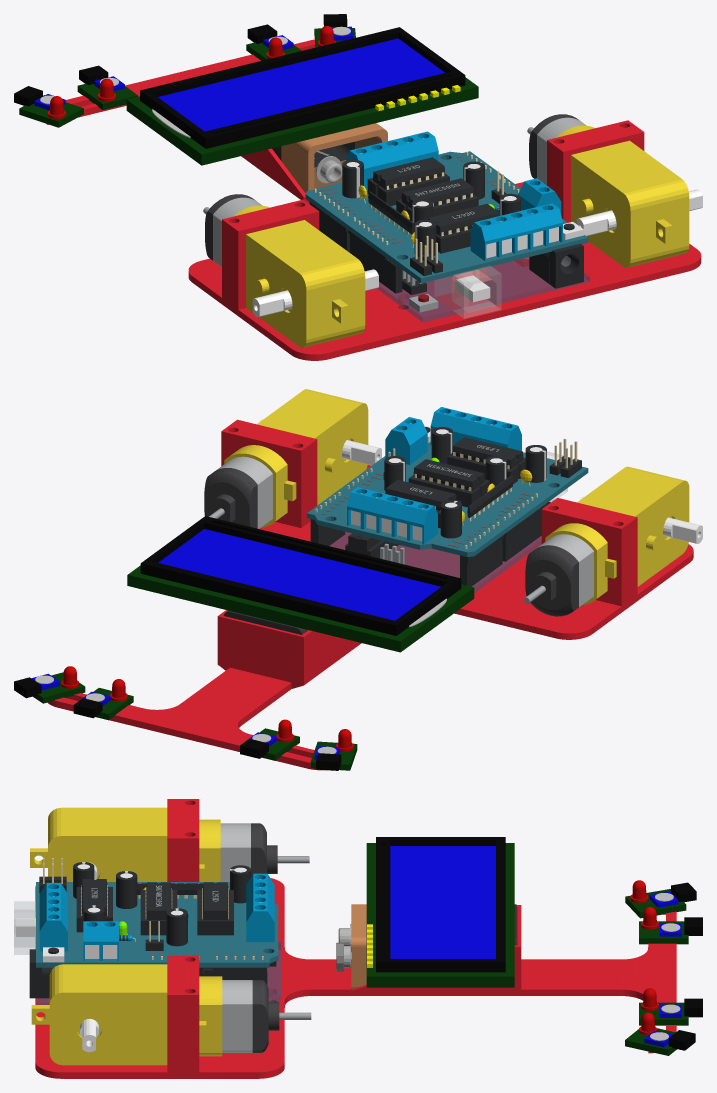
Rendered from car.obj.
3 views of the same model, one above another, from view 1: azimuth 30°, elevation 25°; view 2: azimuth 150°, elevation 25°; view 3: azimuth 270°, elevation 25° (orthographic).
Visible parts, largest first — view 1: Cube, obj_6, obj_7, obj_3, obj_1, obj_0, obj_5, obj_4, obj_2, Cube.005, Cube.004, Cube.003 (+1 smaller); view 2: Cube, obj_6, obj_7, obj_3, obj_1, obj_0, obj_4, obj_2, Cube.002, Cube.004, Cube.003, Cube.005; view 3: Cube, obj_6, obj_1, obj_7, obj_3, obj_2, obj_0, obj_4, obj_5, Cube.005, Cube.004, Cube.002 (+1 smaller).
Boxes of the visible parts, bbox=[...] form: Cube: bbox=[126, 27, 478, 165]; obj_6: bbox=[305, 131, 588, 283]; obj_7: bbox=[47, 39, 701, 360]; obj_3: bbox=[203, 194, 378, 347]; obj_1: bbox=[527, 114, 702, 267]; obj_0: bbox=[319, 212, 589, 322]; obj_5: bbox=[272, 123, 387, 193]; obj_4: bbox=[222, 199, 319, 309]; obj_2: bbox=[547, 120, 644, 222]; Cube.005: bbox=[14, 86, 83, 127]; Cube.004: bbox=[77, 65, 137, 109]; Cube.003: bbox=[246, 24, 301, 60]; Cube: bbox=[127, 516, 474, 652]; obj_6: bbox=[307, 407, 588, 563]; obj_7: bbox=[48, 464, 693, 770]; obj_3: bbox=[524, 466, 702, 616]; obj_1: bbox=[204, 389, 381, 528]; obj_0: bbox=[310, 451, 567, 592]; obj_4: bbox=[541, 498, 637, 606]; obj_2: bbox=[221, 419, 317, 527]; Cube.002: bbox=[14, 666, 85, 703]; Cube.004: bbox=[240, 719, 299, 760]; Cube.003: bbox=[73, 679, 133, 720]; Cube.005: bbox=[310, 729, 357, 770]; Cube: bbox=[366, 837, 514, 987]; obj_6: bbox=[36, 858, 278, 973]; obj_1: bbox=[31, 964, 311, 1065]; obj_7: bbox=[35, 878, 676, 1078]; obj_3: bbox=[30, 807, 309, 881]; obj_2: bbox=[167, 955, 199, 1072]; obj_0: bbox=[14, 901, 281, 1004]; obj_4: bbox=[167, 799, 199, 881]; obj_5: bbox=[336, 904, 516, 990]; Cube.005: bbox=[625, 880, 696, 918]; Cube.004: bbox=[639, 907, 702, 944]; Cube.002: bbox=[625, 1012, 695, 1055].
Size of the model in its own units: 1.42 by 0.272 by 1.93.
